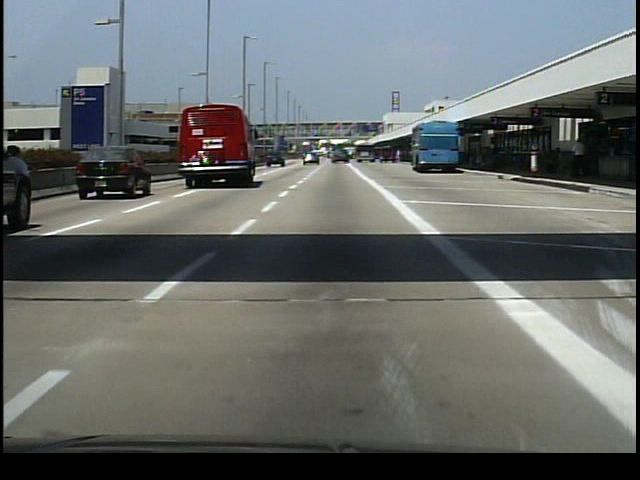person: (571, 136, 590, 182)
